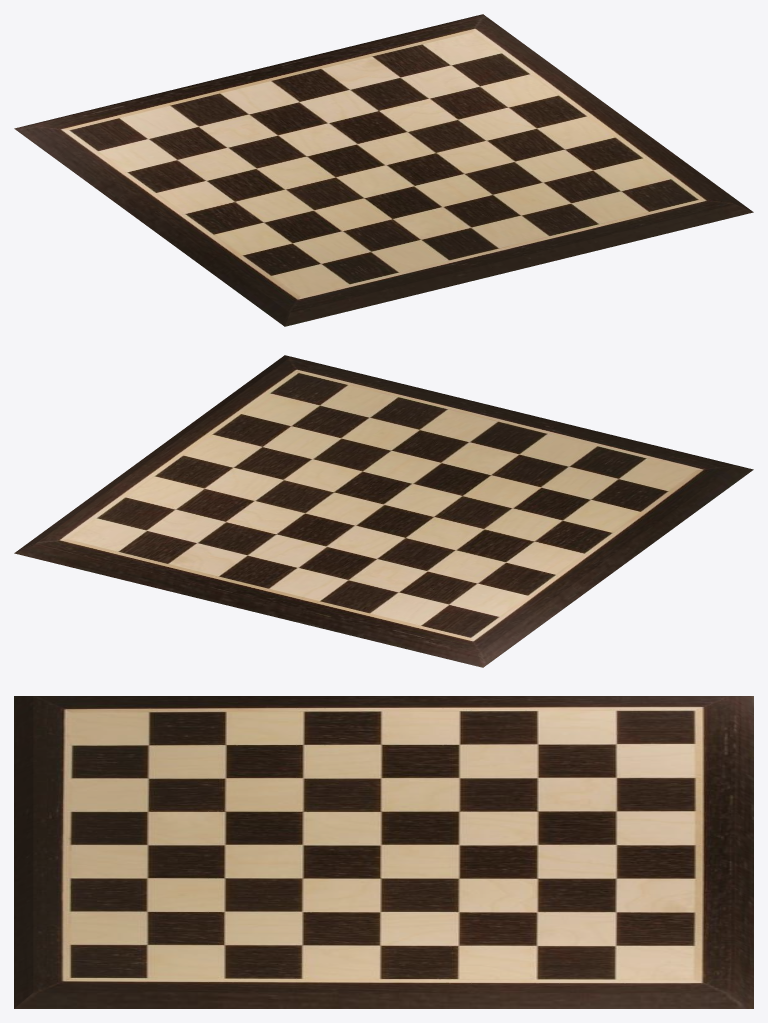
The model's file is board.FBX.
3 renders of one model, top to bottom at view 1: azimuth 30°, elevation 25°; view 2: azimuth 150°, elevation 25°; view 3: azimuth 270°, elevation 25°, orthographic. The views are drawn at different scales.
Parts seen in each view (by area): view 1: Board; view 2: Board; view 3: Board.
Boxes of the visible parts, x1,y1,x2,y2 form: Board: (14, 14, 753, 326); Board: (14, 355, 753, 667); Board: (14, 696, 753, 1008).
Size of the model in its own units: 844 by 10 by 844.
